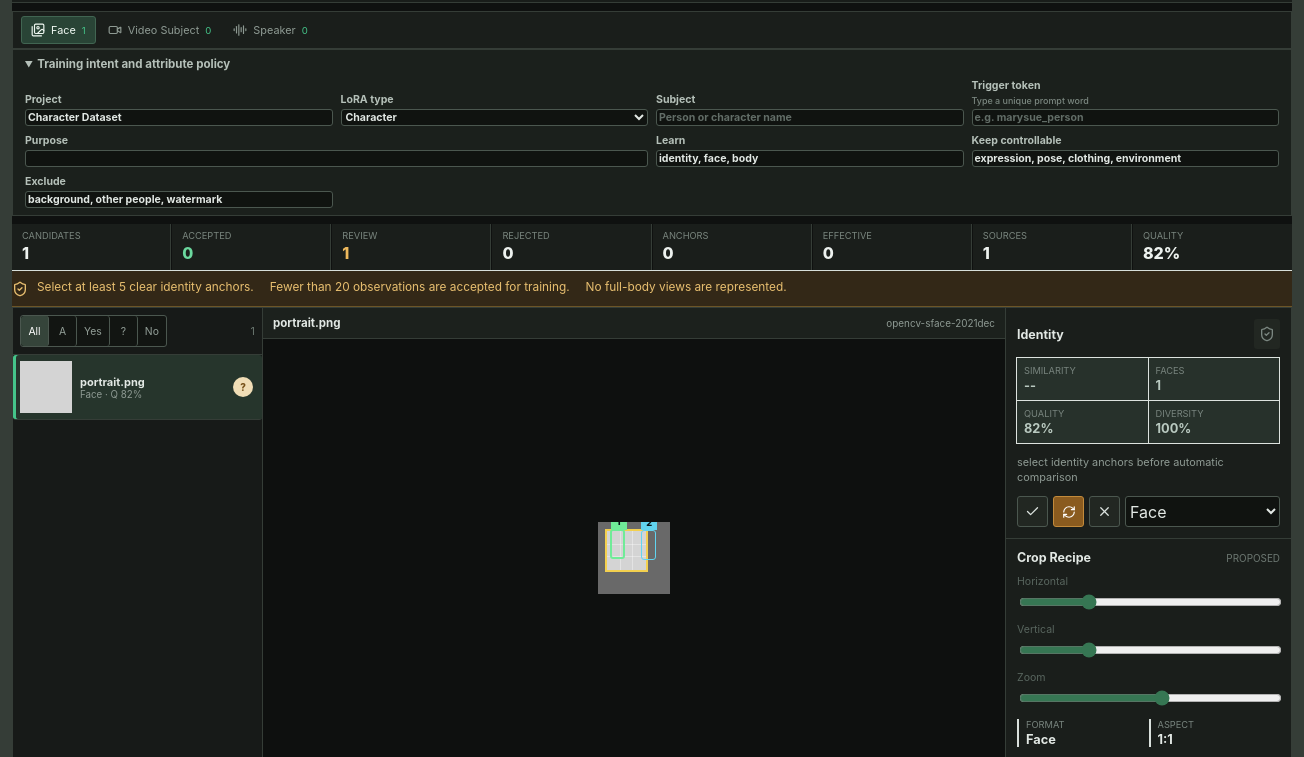
Test: IdentifyTab › selects a detected subject face and materializes its crop recipe
The image size is (1304, 757).
Click the button named "Select face 2": (648, 545) x1=641 y1=530 x2=656 y2=560
(page scrolled)
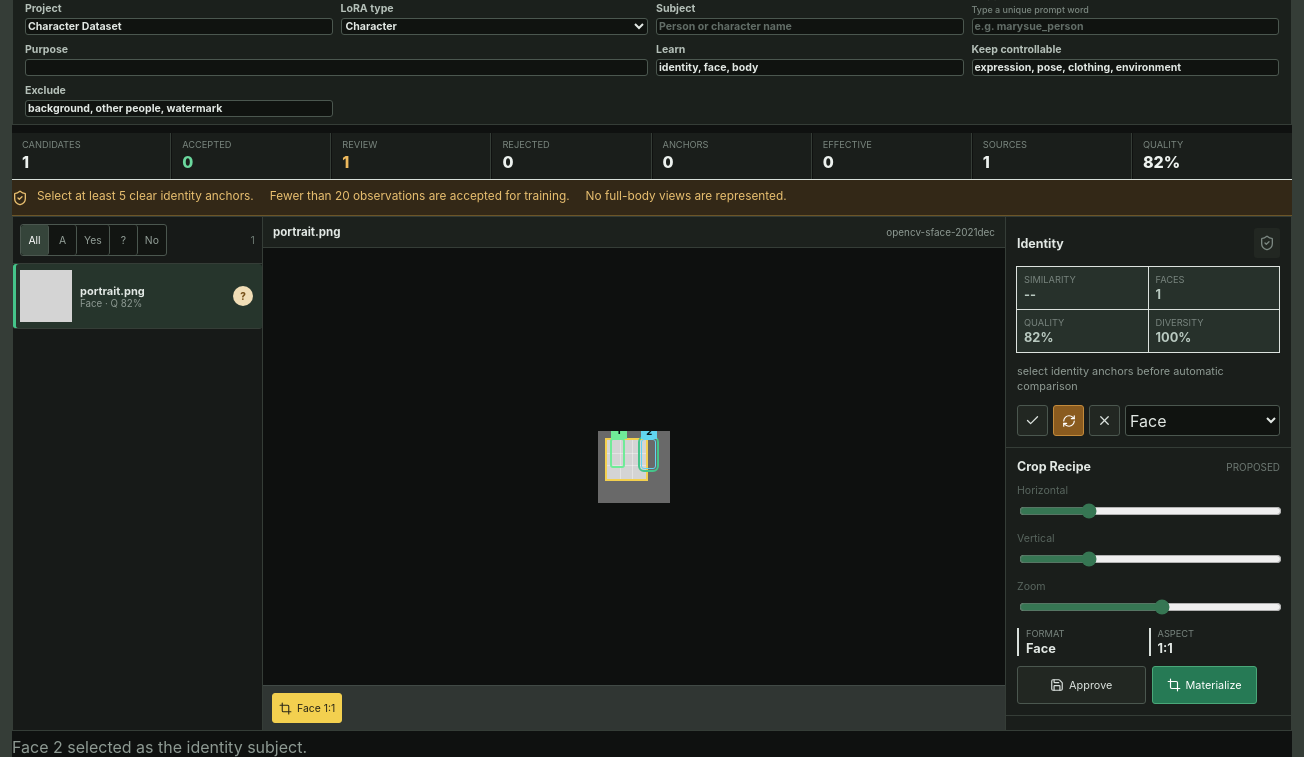
Click the button "Materialize": (1204, 685) x1=1152 y1=666 x2=1257 y2=704
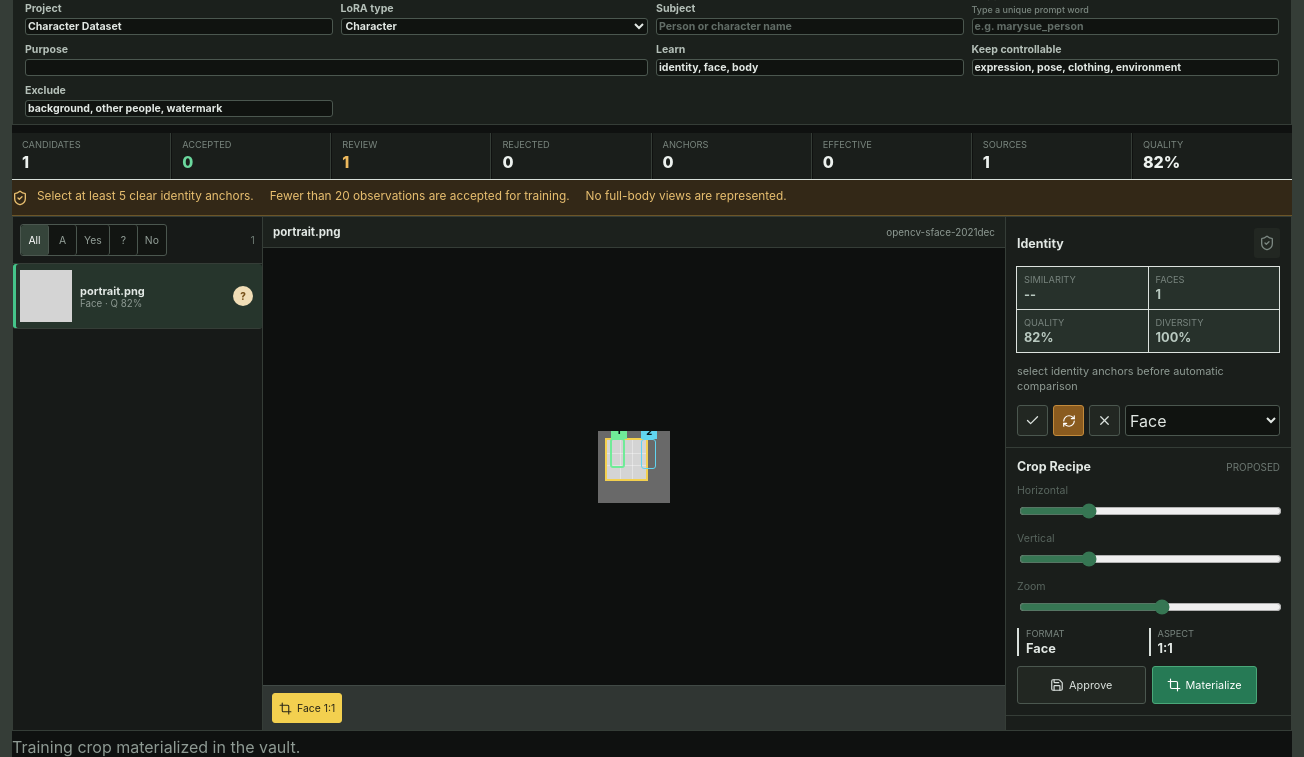
Expected: the text "Training crop materialized in the vault." is shown, x1=12 y1=737 x2=300 y2=756
